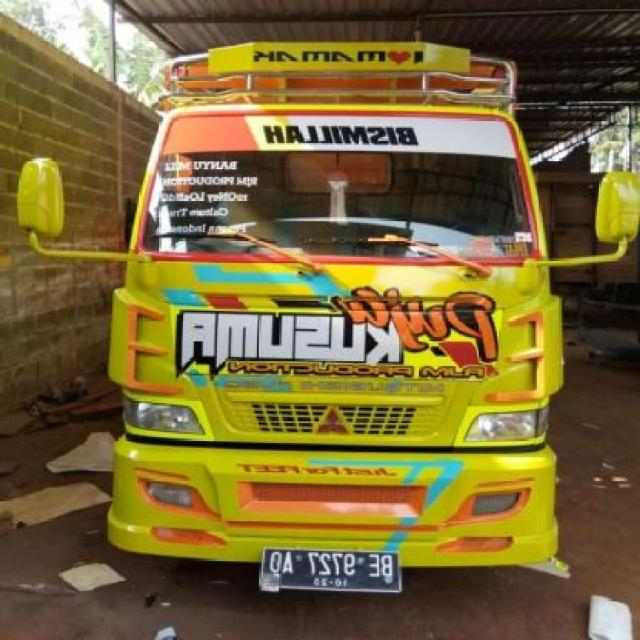truck: (19, 39, 640, 600)
